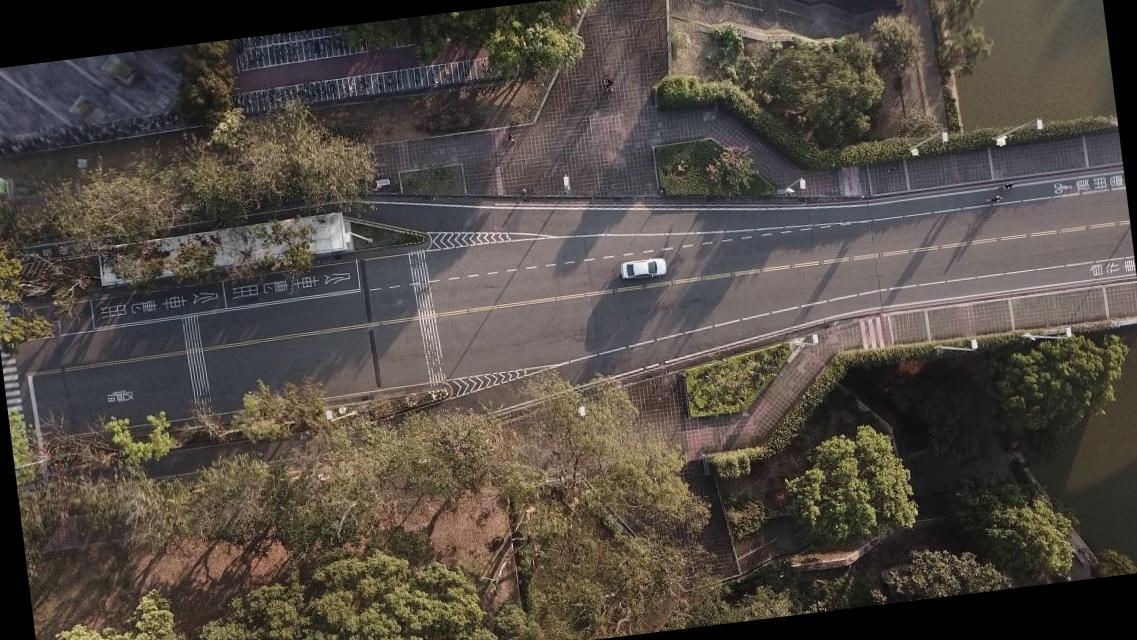vehicle: (618, 254, 667, 282)
